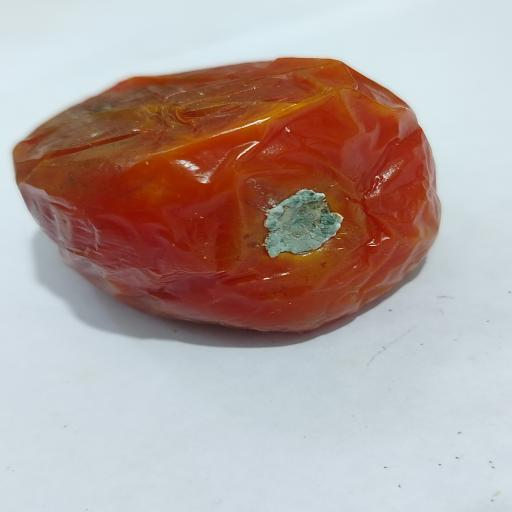spoiled: (13, 58, 439, 331)
